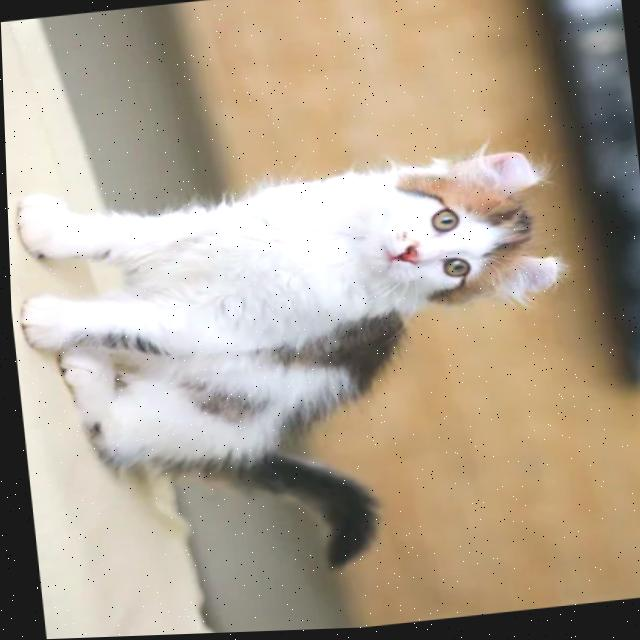American Curl: (4, 136, 594, 603)
